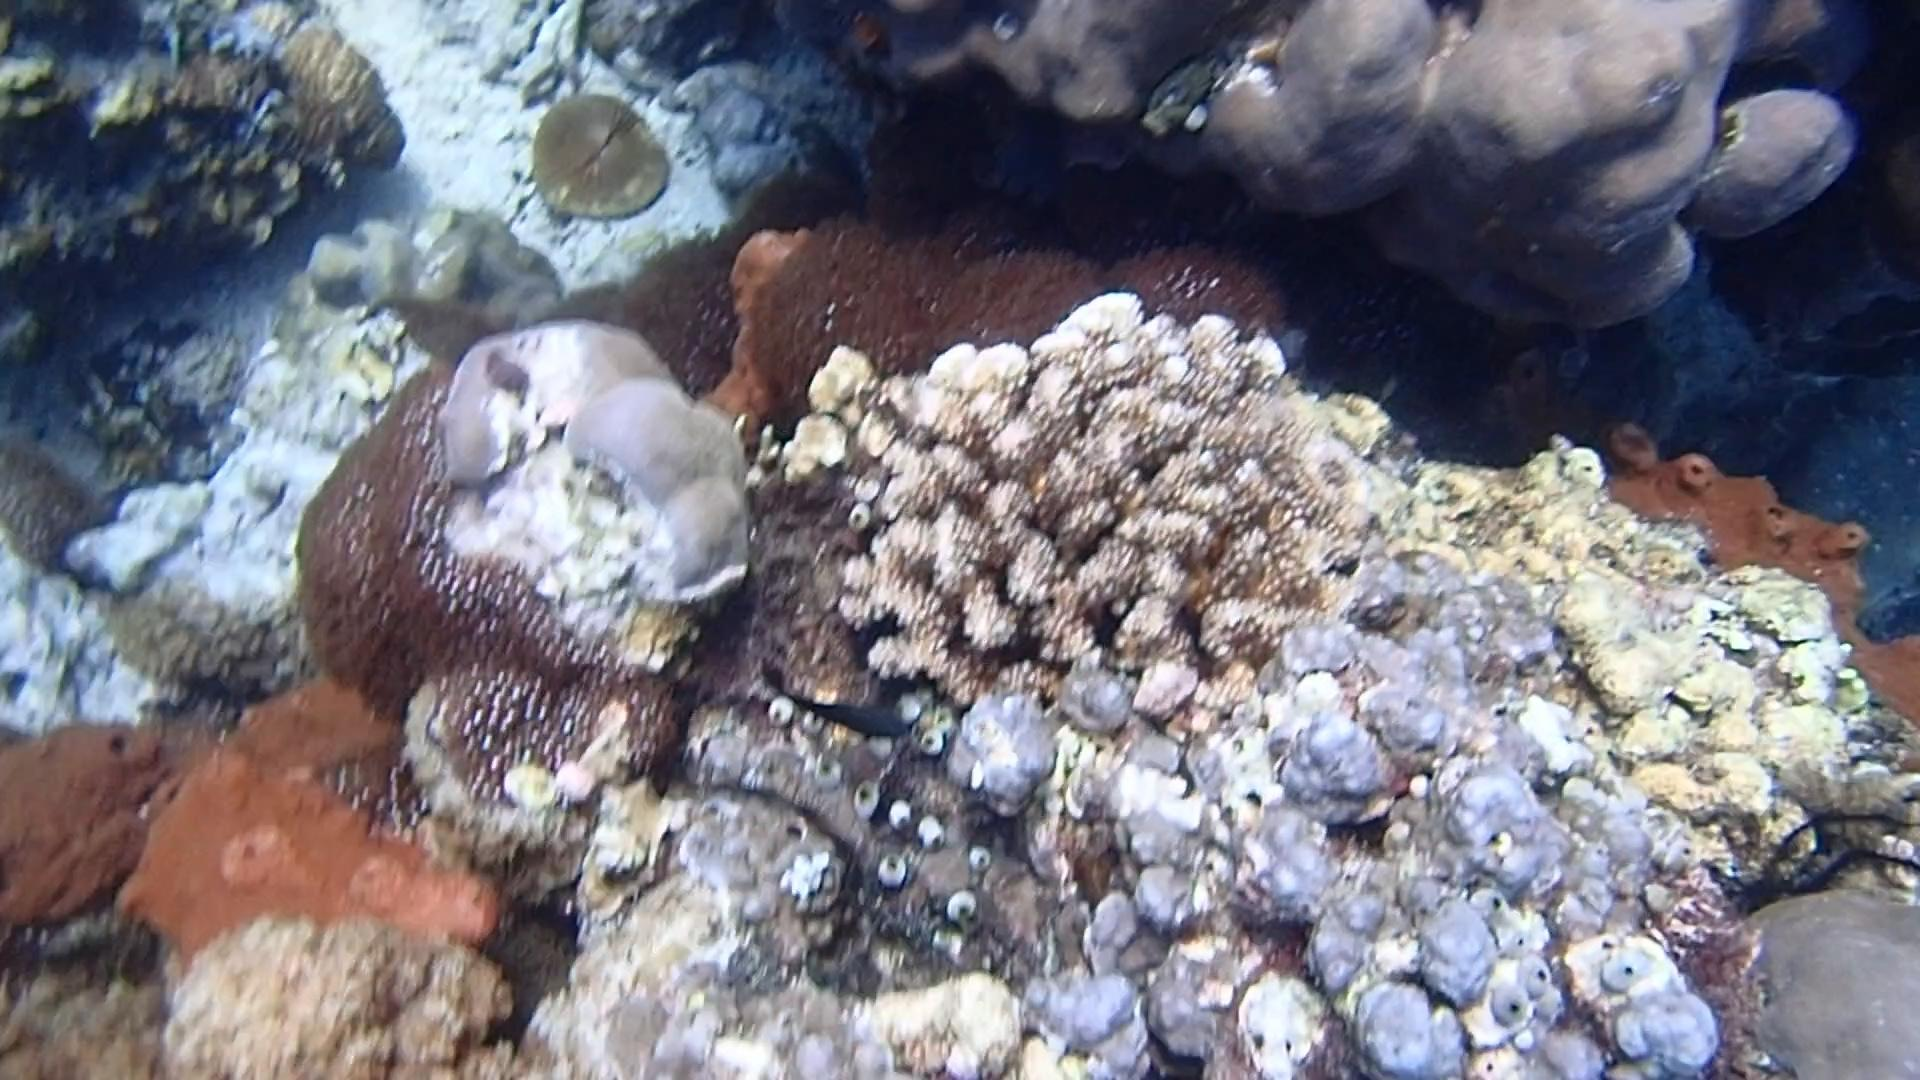Dark Fish: (773, 670, 934, 756)
